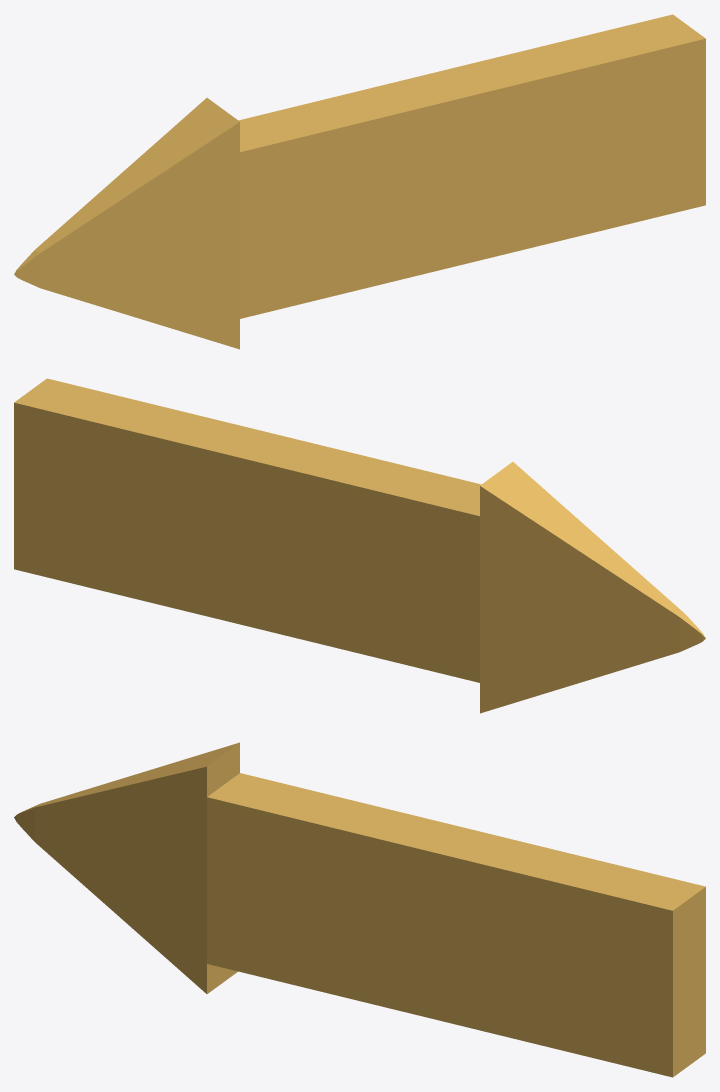
The model's file is Flechafbx.fbx.
3 renders of one model, top to bottom at view 1: azimuth 30°, elevation 25°; view 2: azimuth 150°, elevation 25°; view 3: azimuth 330°, elevation 25°, orthographic.
Parts seen in each view (by area): view 1: Cube; view 2: Cube; view 3: Cube.
Part boxes in pixels (left/top/right/bottom): Cube: left=14, top=14, right=705, bottom=349; Cube: left=14, top=378, right=705, bottom=713; Cube: left=14, top=742, right=705, bottom=1077.
Bounding box in the file's own units: 2.9 × 0.9345 × 0.2458.
